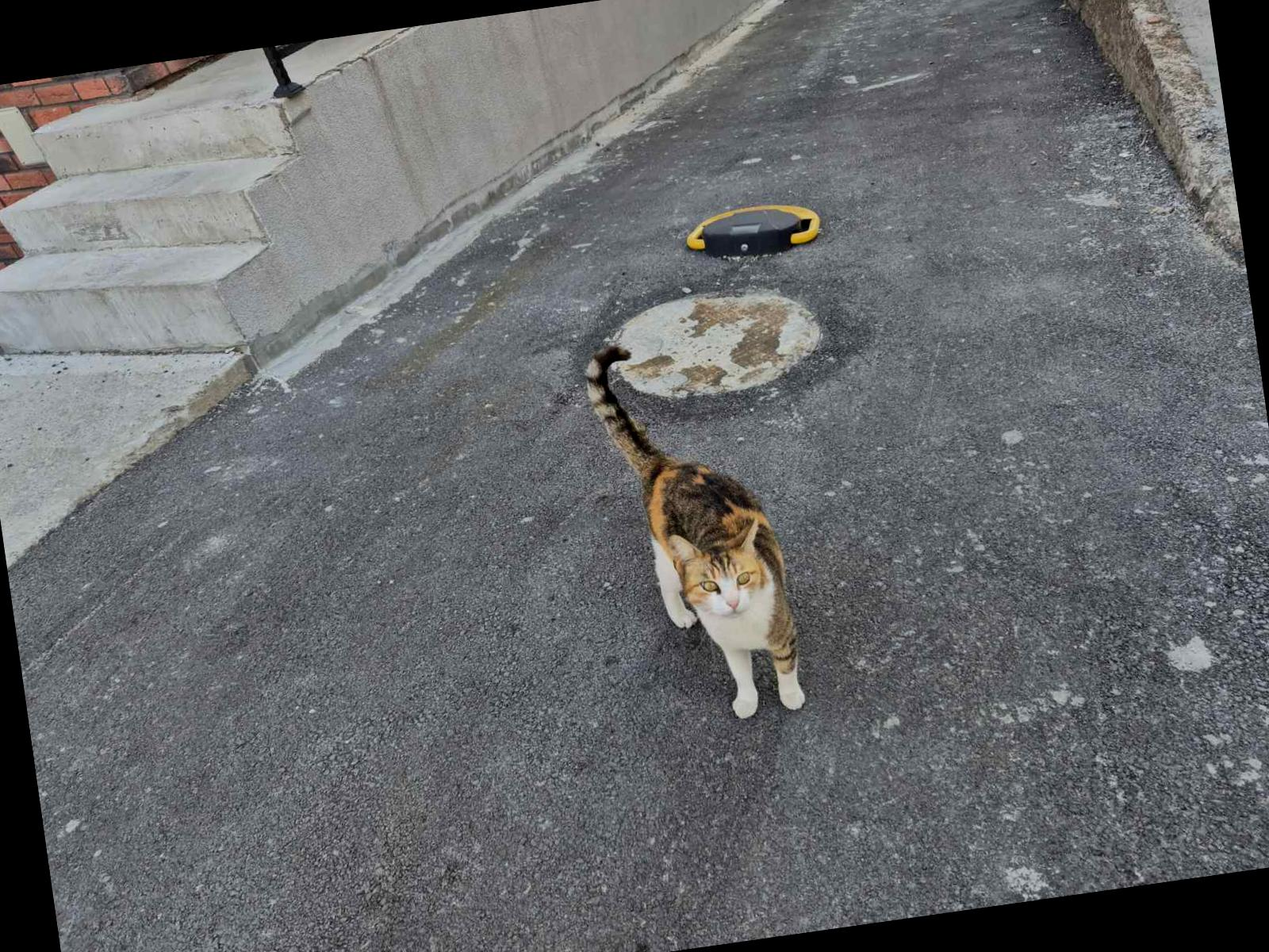macka: (582, 324, 810, 735)
